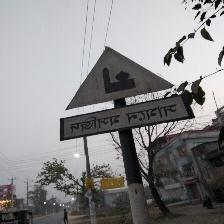Mosque in front: (60, 47, 194, 141)
